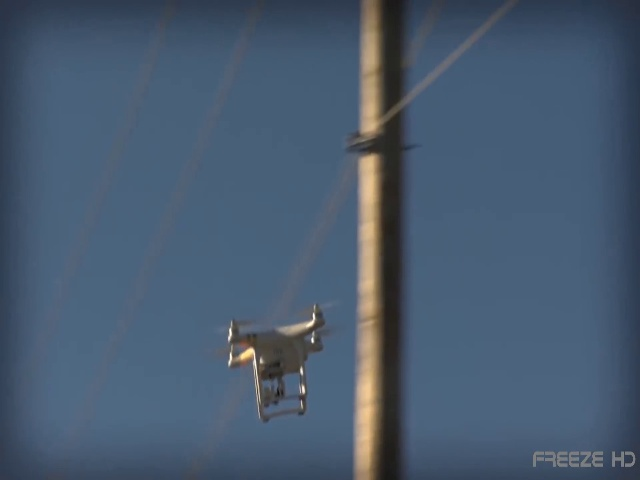drone: (212, 297, 353, 425)
